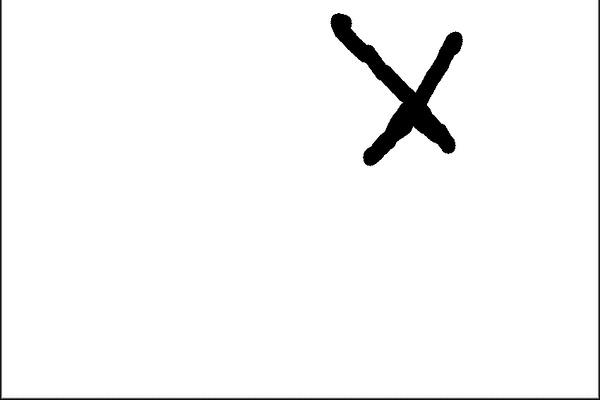X: (319, 7, 479, 174)
